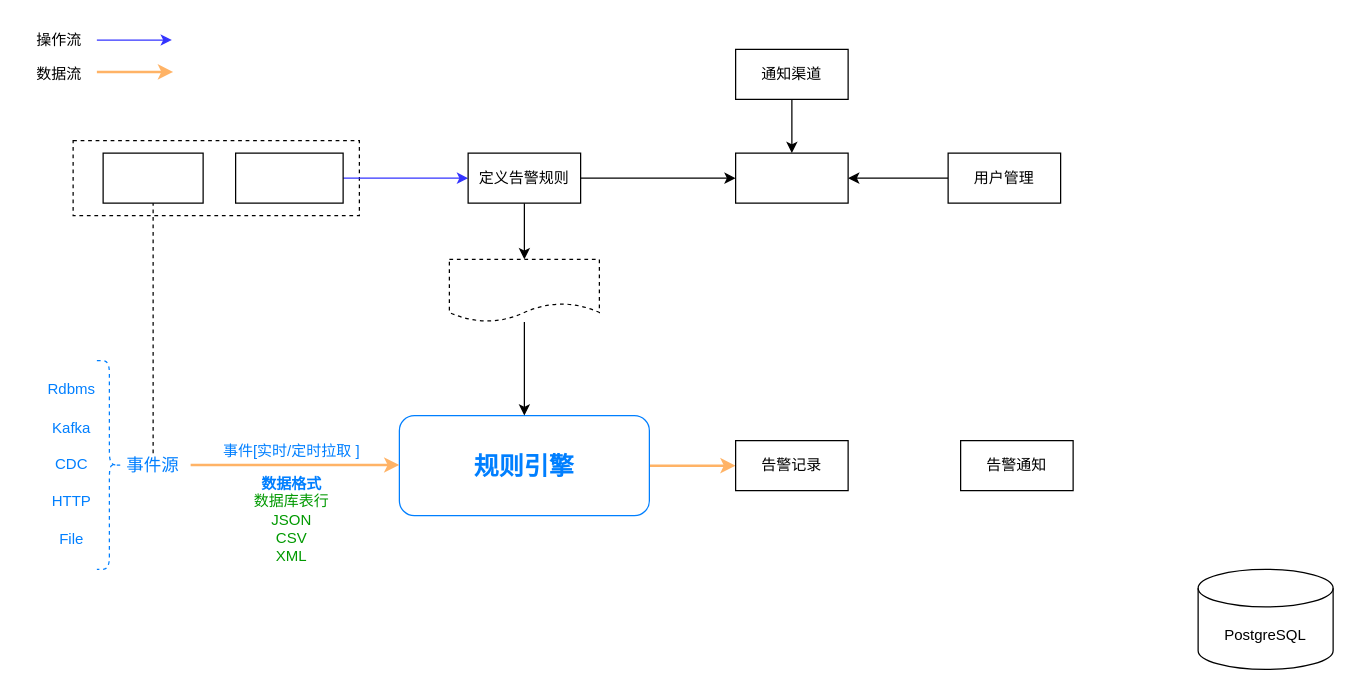
Some shapes in this 1355 by 691 pixel diagram are drawn without their labels. Here are the shapes that lost their labels. From the top down, the box of each, then its label:
(102, 152, 203, 203): 定义事件源
(234, 152, 343, 203): 定义事件模型 (元数据)
(734, 152, 848, 203): 通知策略
(448, 258, 599, 322): 告警规则 定义文件
